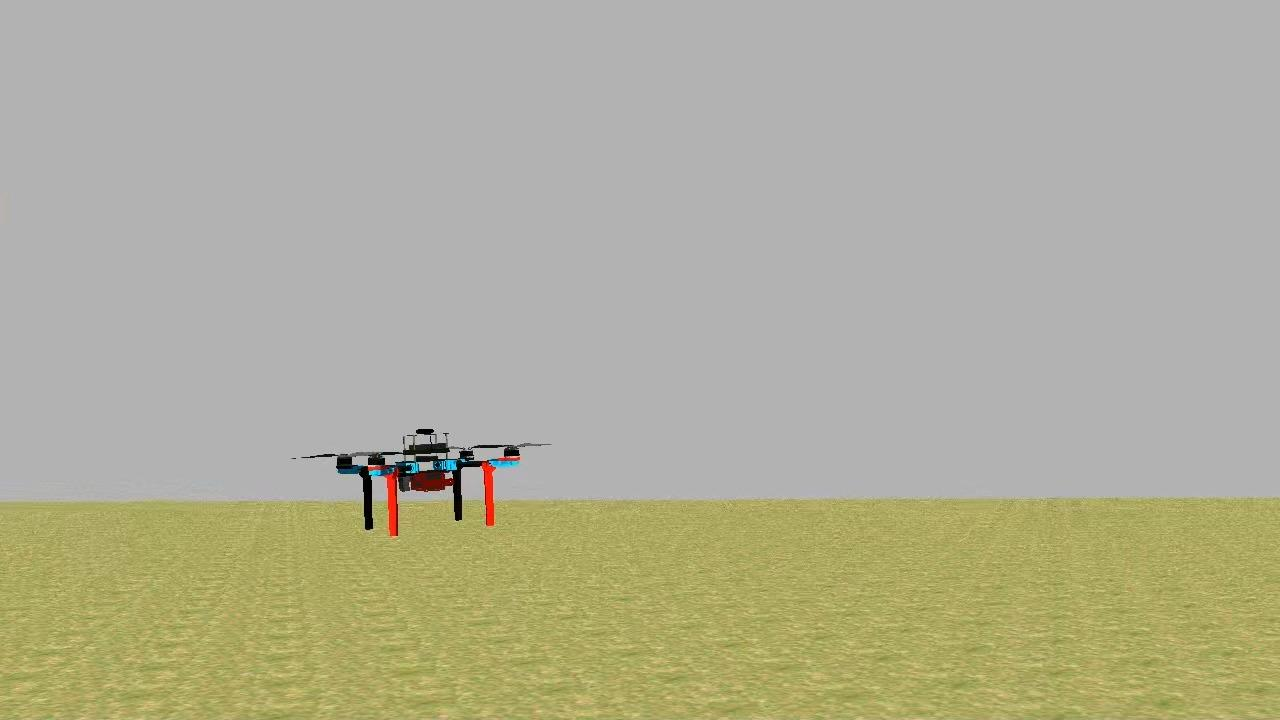UAV: (342, 426, 524, 542)
